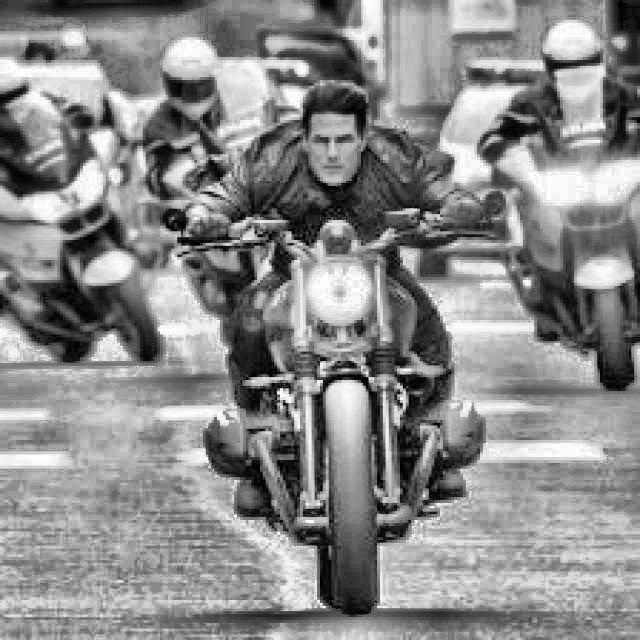motorcycle: (134, 147, 546, 618)
